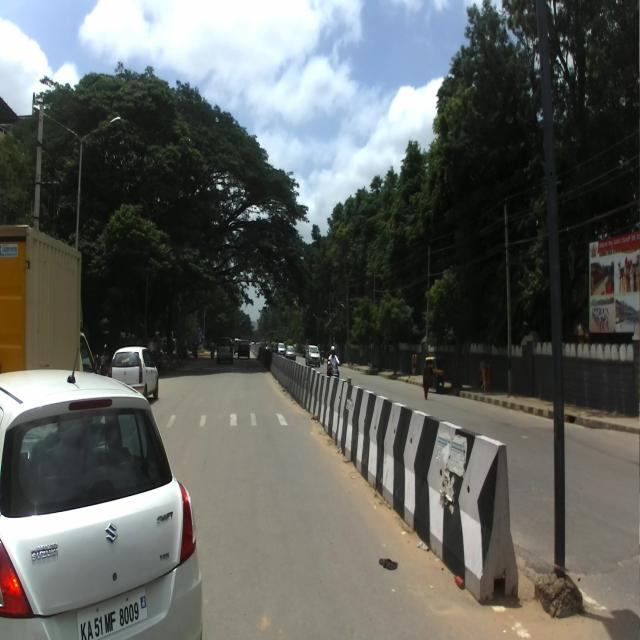Car_Maruti-Suzuki: (0, 349, 204, 639)
